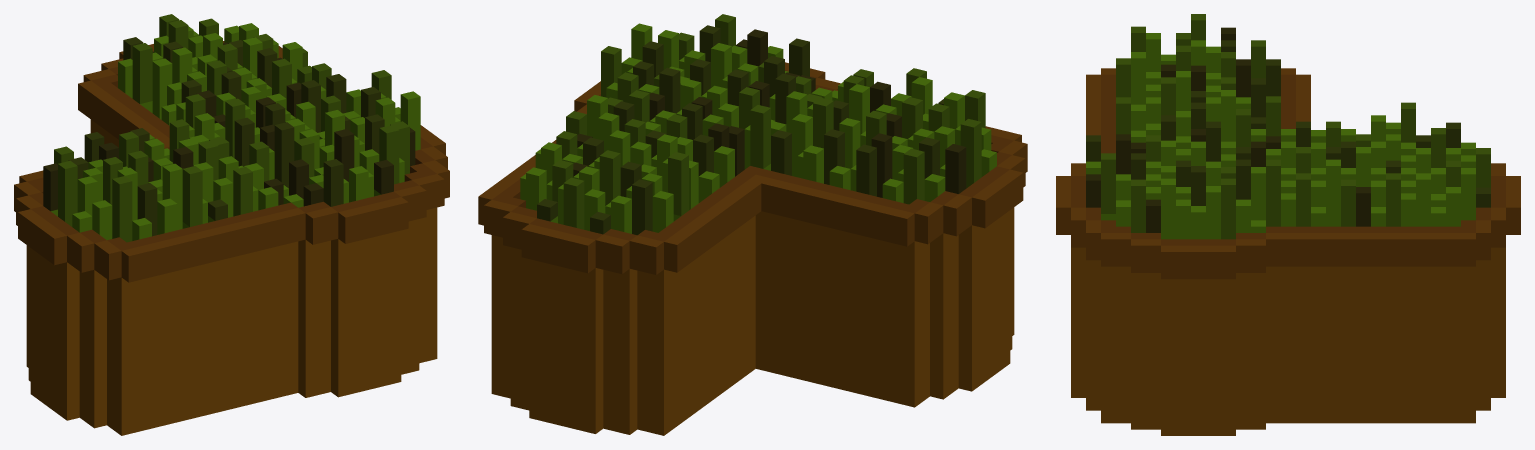
File: Planta.obj
The picture shows the model from 3 angles, left to right: view 1: azimuth 30°, elevation 25°; view 2: azimuth 150°, elevation 25°; view 3: azimuth 270°, elevation 25°; orthographic projection. The views are drawn at different scales.
Size of the model in its own units: 31 by 18 by 31.
1 material, 1 textured.
